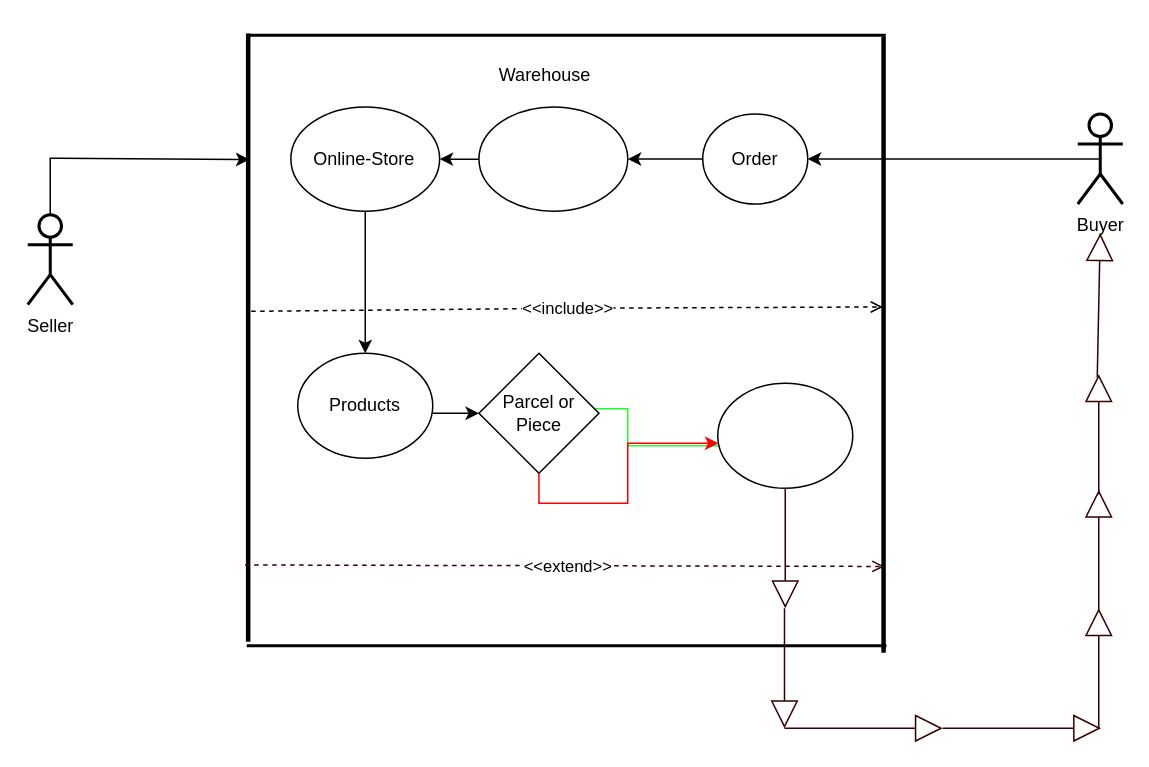
This 1149x767 diagram has some shape labels left out. Here are the shapes that lost their labels. From the top down, the centre of each, then its label:
[552,158]: Buyer Details
[784,435]: Deliver
